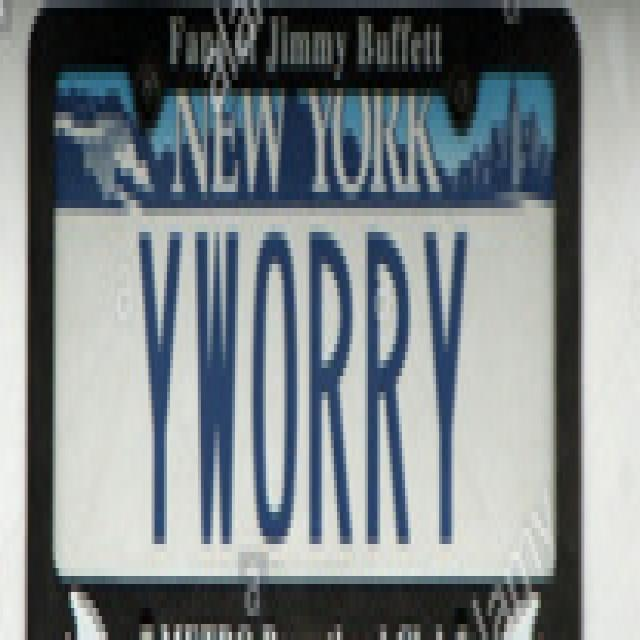0: (253, 214, 301, 575)
R: (362, 213, 417, 580), (304, 216, 359, 567)
W: (188, 200, 244, 578)
Y: (420, 214, 477, 583), (130, 208, 184, 567)
